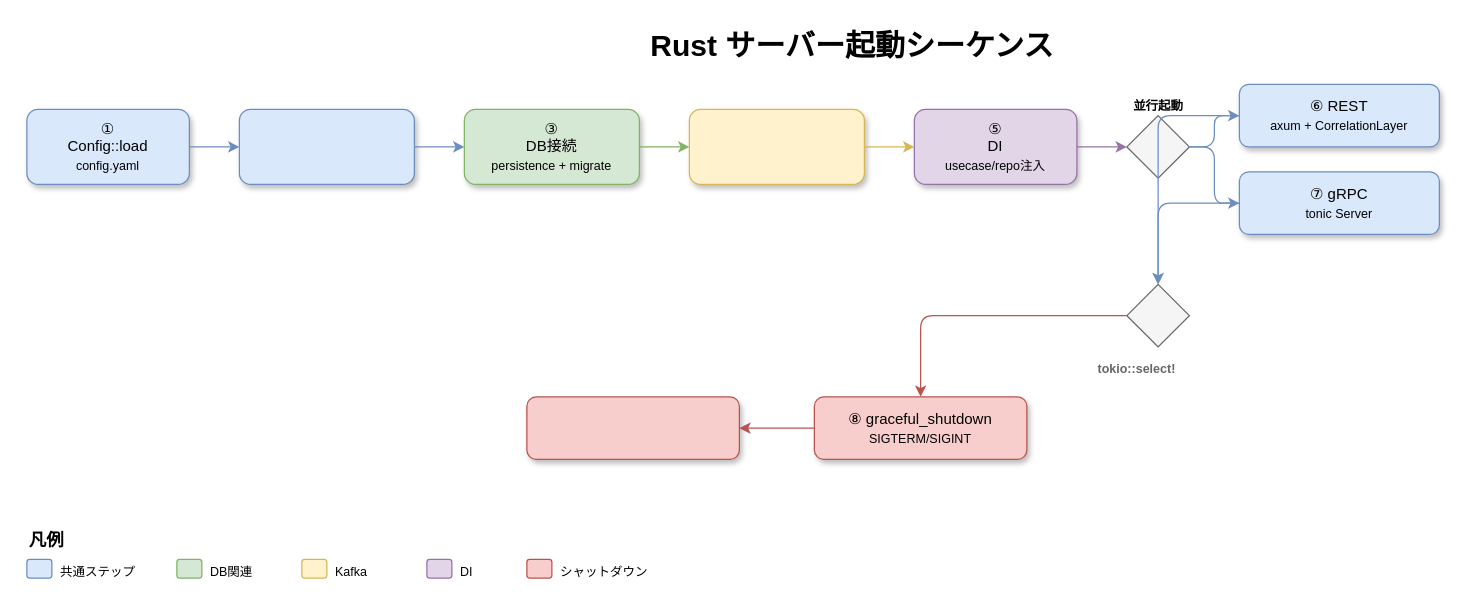
Some shapes in this 1469 by 603 pixel diagram are drawn without their labels. Each missing label, with the centre of its shape:
"② init_telemetry ログ+トレーサー" belongs at (x=327, y=148).
"④ KafkaProducer Kafka使用時のみ" belongs at (x=777, y=148).
"⑨ telemetry::shutdown OTel flush" belongs at (x=634, y=429).
